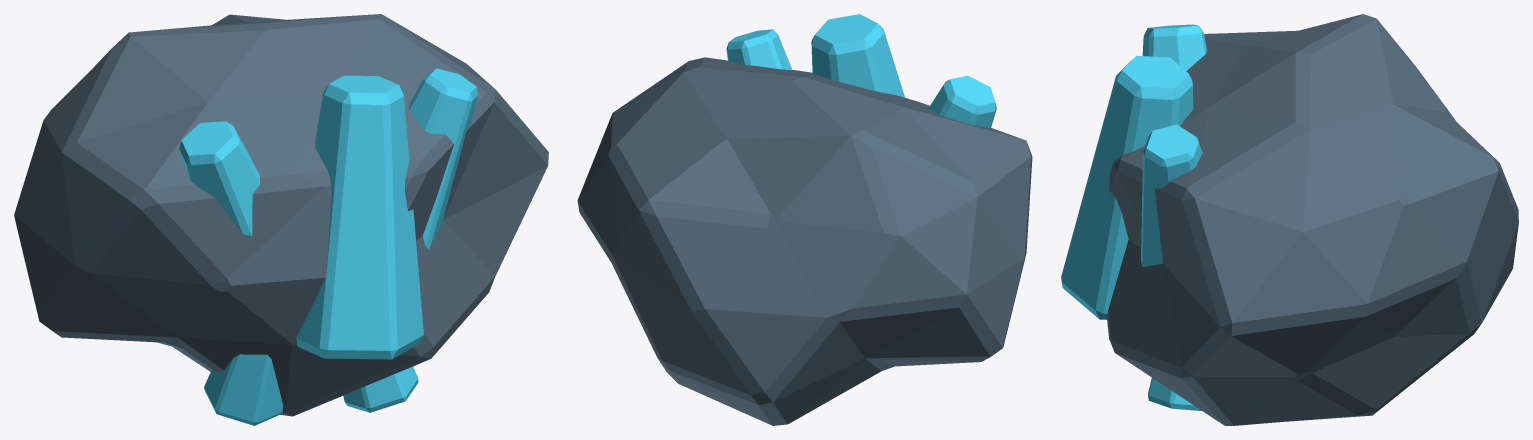
The model's file is diamond_tier6.glb.
3 renders of one model, left to right at view 1: azimuth 30°, elevation 25°; view 2: azimuth 150°, elevation 25°; view 3: azimuth 270°, elevation 25°, orthographic. The views are drawn at different scales.
Parts seen in each view (by area): view 1: diamond_body, diamond_crystal_02, diamond_crystal_01, diamond_crystal_03, diamond_crystal_05, diamond_crystal_04; view 2: diamond_body, diamond_crystal_02, diamond_crystal_01, diamond_crystal_03; view 3: diamond_body, diamond_crystal_02, diamond_crystal_03, diamond_crystal_01, diamond_crystal_04.
Part boxes in pixels (box(x1,y1,x2,y2)): diamond_body: box(14, 14, 548, 416); diamond_crystal_02: box(296, 75, 423, 359); diamond_crystal_01: box(179, 121, 260, 236); diamond_crystal_03: box(409, 68, 478, 249); diamond_crystal_05: box(204, 354, 283, 425); diamond_crystal_04: box(343, 366, 418, 412); diamond_body: box(577, 57, 1032, 425); diamond_crystal_02: box(811, 14, 904, 97); diamond_crystal_01: box(928, 75, 996, 127); diamond_crystal_03: box(726, 29, 792, 70); diamond_body: box(1107, 14, 1518, 425); diamond_crystal_02: box(1061, 55, 1193, 319); diamond_crystal_03: box(1141, 124, 1202, 266); diamond_crystal_01: box(1142, 24, 1206, 70); diamond_crystal_04: box(1148, 378, 1202, 411).
Size of the model in its own units: 2.05 by 1.5 by 1.79.
